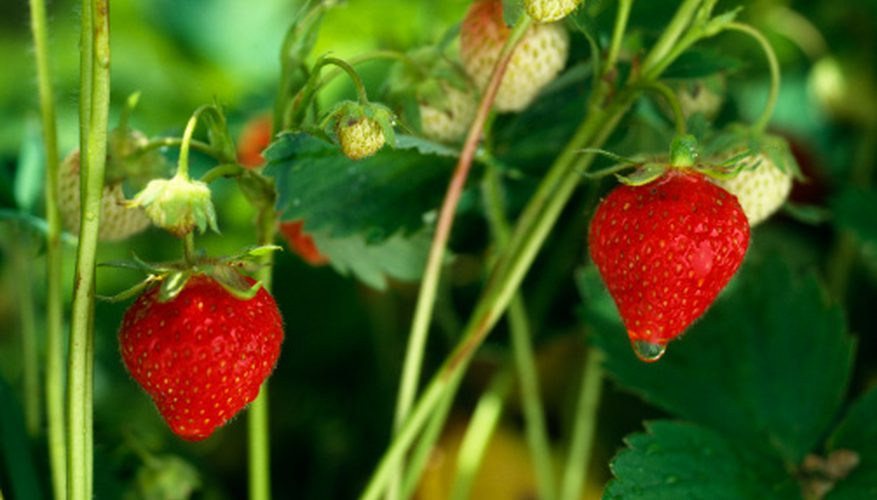ripe_strawberry: (118, 263, 288, 443), (587, 166, 752, 344), (236, 112, 332, 266)
unripe_strawberry: (456, 1, 572, 114), (58, 137, 156, 242), (697, 132, 794, 228), (398, 49, 482, 142), (148, 184, 209, 240), (338, 104, 389, 163), (519, 1, 586, 26)
